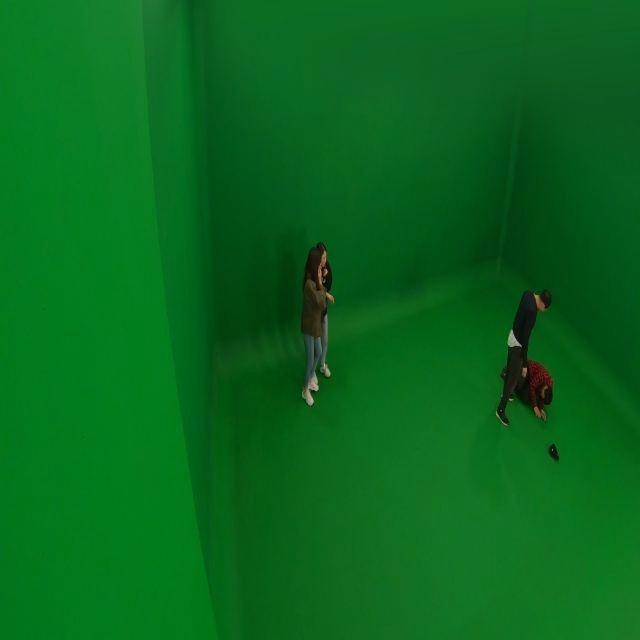fight: (495, 286, 557, 426)
non-fight: (293, 240, 336, 406)
